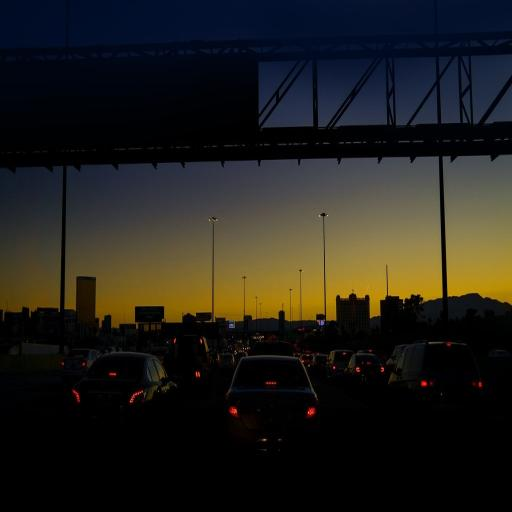off street light: (316, 208, 332, 320), (208, 209, 217, 313), (240, 269, 247, 312)
